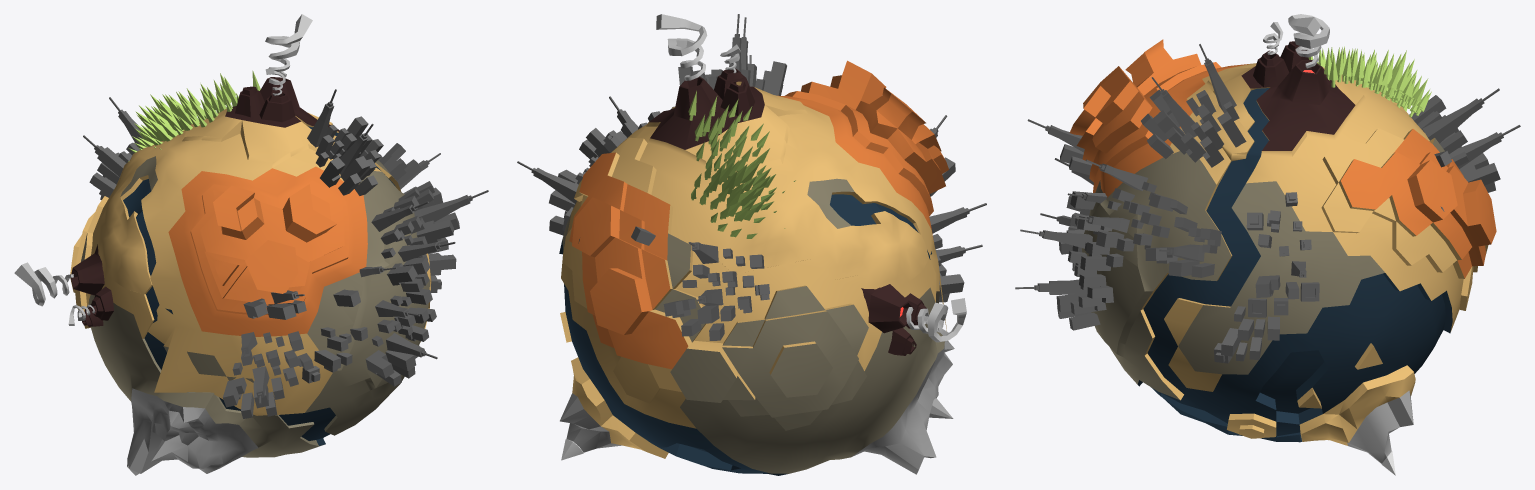
3 renders of one model, left to right at view 1: azimuth 30°, elevation 25°; view 2: azimuth 150°, elevation 25°; view 3: azimuth 270°, elevation 25°, orthographic. The views are drawn at different scales.
Visible parts, largest first — view 1: Ground, Rocky Mountains, Grass, Mountains, City, City 4, City 3, City 5, Forest 1, City 2, City 1, Water (+4 smaller); view 2: Ground, Grass, Rocky Mountains, City, Water, Forest 1, Mountains, Volcano, Volcano 1, City 4, Smoke, City 5 (+2 smaller); view 3: Ground, Water, Grass, Rocky Mountains, City, Volcano, City 4, City 2, City 3, Forest 1, Mountains, City 1 (+2 smaller).
Boxes of the visible parts, left/top/right/bottom form: Ground: left=70, top=108, right=431, bottom=415; Rocky Mountains: left=168, top=166, right=367, bottom=336; Grass: left=80, top=156, right=430, bottom=457; Mountains: left=127, top=388, right=258, bottom=475; City: left=83, top=97, right=488, bottom=292; City 4: left=307, top=89, right=383, bottom=195; City 3: left=365, top=289, right=437, bottom=386; City 5: left=222, top=331, right=313, bottom=418; Forest 1: left=128, top=70, right=260, bottom=161; City 2: left=371, top=195, right=455, bottom=291; City 1: left=243, top=266, right=396, bottom=383; Water: left=123, top=126, right=395, bottom=445; Ground: left=560, top=81, right=946, bottom=458; Grass: left=562, top=178, right=944, bottom=473; Rocky Mountains: left=569, top=60, right=948, bottom=369; City: left=517, top=96, right=769, bottom=340; Water: left=559, top=194, right=931, bottom=475; Forest 1: left=688, top=90, right=795, bottom=238; Mountains: left=560, top=341, right=954, bottom=474; Volcano: left=649, top=69, right=764, bottom=149; Volcano 1: left=861, top=284, right=926, bottom=355; City 4: left=678, top=14, right=786, bottom=95; Smoke: left=656, top=14, right=740, bottom=80; City 5: left=929, top=203, right=986, bottom=302; Ground: left=1140, top=63, right=1488, bottom=445; Water: left=1137, top=88, right=1452, bottom=442; Grass: left=1082, top=138, right=1444, bottom=399; Rocky Mountains: left=1069, top=39, right=1496, bottom=278; City: left=1145, top=88, right=1520, bottom=363; Volcano: left=1241, top=41, right=1355, bottom=150; City 4: left=1141, top=44, right=1246, bottom=167; City 2: left=1072, top=159, right=1176, bottom=267; City 3: left=1015, top=229, right=1113, bottom=330; Forest 1: left=1308, top=46, right=1431, bottom=117; Mountains: left=1347, top=390, right=1413, bottom=463; City 1: left=1027, top=119, right=1451, bottom=263.
Bounding box in the file's own units: 0.2018 × 0.1857 × 0.192.
